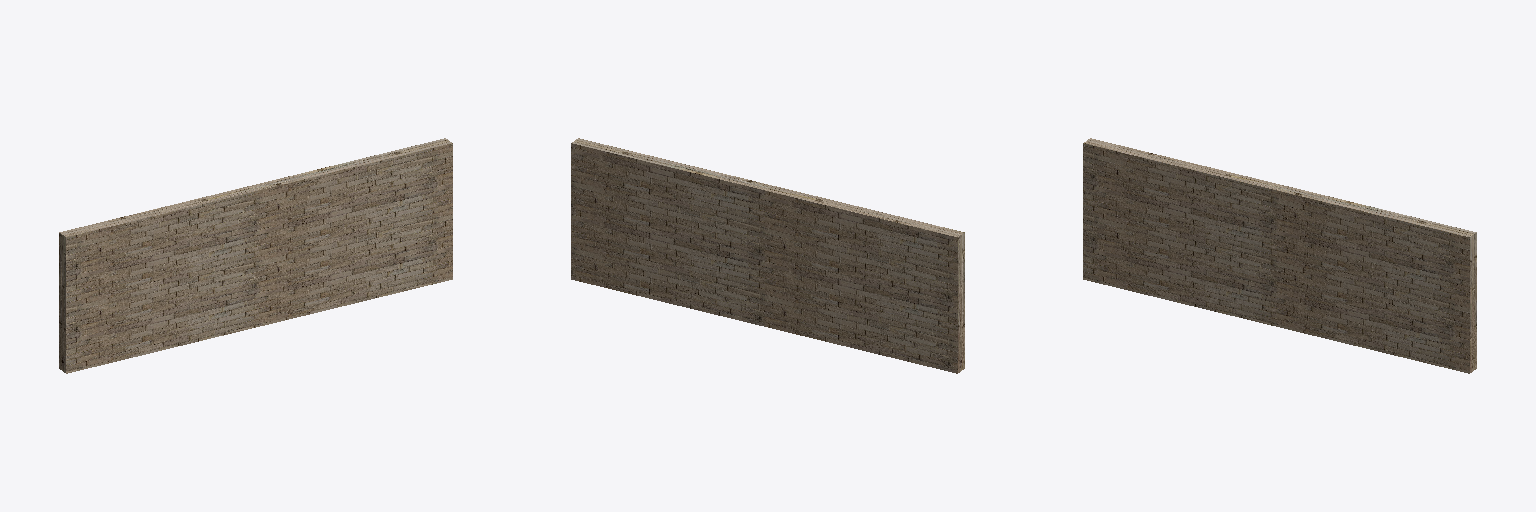
The picture shows the model from 3 angles: view 1: azimuth 30°, elevation 25°; view 2: azimuth 150°, elevation 25°; view 3: azimuth 330°, elevation 25°; orthographic projection.
Parts seen in each view (by area): view 1: Cube.001_Cube.002; view 2: Cube.001_Cube.002; view 3: Cube.001_Cube.002.
Part boxes in pixels (left/top/right/bottom): Cube.001_Cube.002: left=59, top=138, right=452, bottom=373; Cube.001_Cube.002: left=571, top=138, right=964, bottom=373; Cube.001_Cube.002: left=1083, top=138, right=1476, bottom=373.
Size of the model in its own units: 25.56 by 8.62 by 0.8.
1 materials, 1 textured.